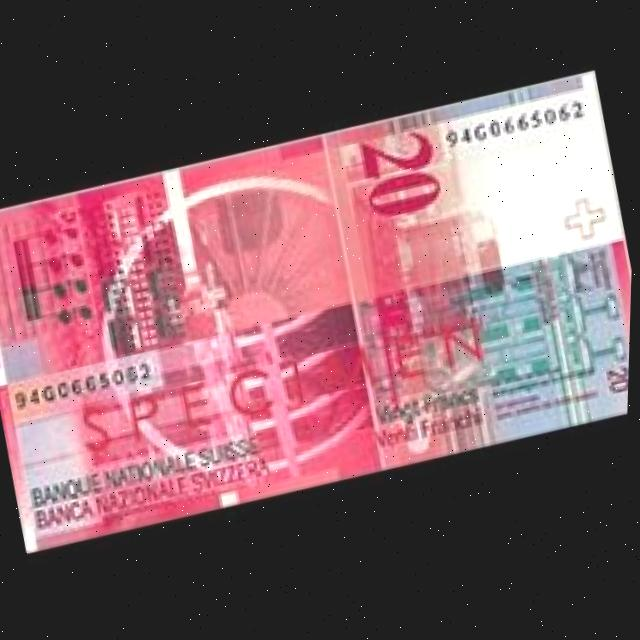banknote: (0, 70, 638, 551), (344, 119, 459, 234), (597, 352, 632, 412)
